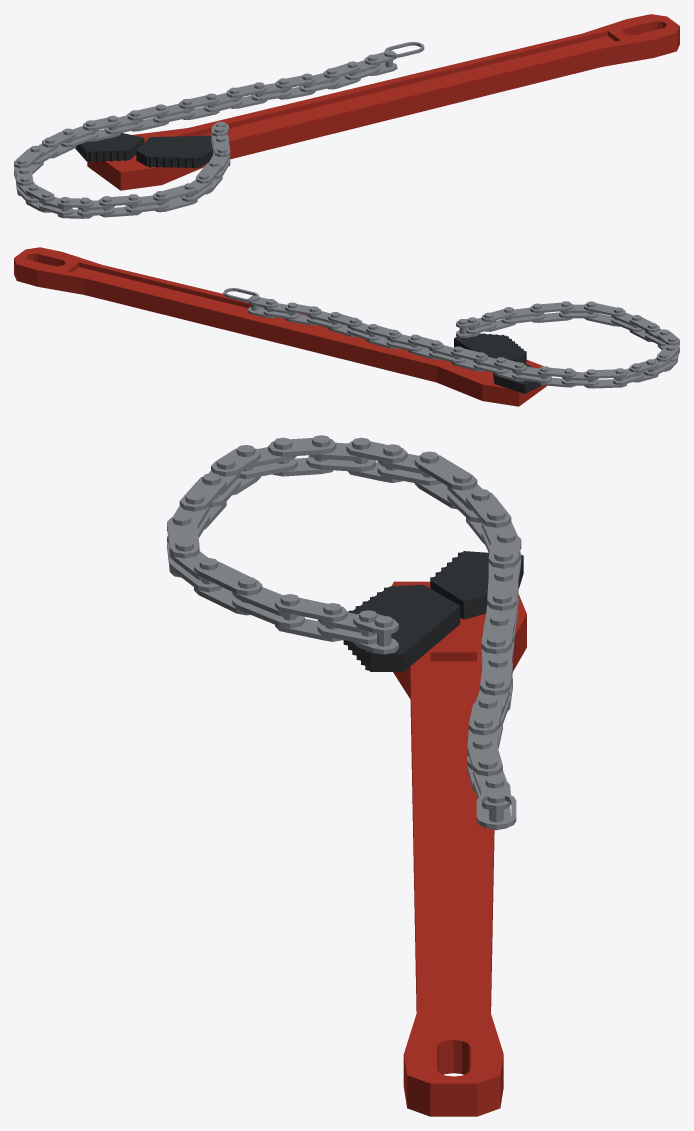
The picture shows the model from 3 angles, top to bottom: view 1: azimuth 30°, elevation 25°; view 2: azimuth 150°, elevation 25°; view 3: azimuth 270°, elevation 25°; orthographic projection. The views are drawn at different scales.
Visible parts, largest first — view 1: 01_Ribbed_cast_handle_with_real_end_slot, 04_Complete_pinned_plate_chain_loop_tail_and_pullring, 02_Replaceable_toothed_jaw_B, 02_Replaceable_toothed_jaw_A; view 2: 01_Ribbed_cast_handle_with_real_end_slot, 04_Complete_pinned_plate_chain_loop_tail_and_pullring, 02_Replaceable_toothed_jaw_B, 02_Replaceable_toothed_jaw_A; view 3: 01_Ribbed_cast_handle_with_real_end_slot, 04_Complete_pinned_plate_chain_loop_tail_and_pullring, 02_Replaceable_toothed_jaw_B, 02_Replaceable_toothed_jaw_A.
Boxes of the visible parts, x1,y1,x2,y2 form: 01_Ribbed_cast_handle_with_real_end_slot: (87,14,679,190); 04_Complete_pinned_plate_chain_loop_tail_and_pullring: (14,41,424,218); 02_Replaceable_toothed_jaw_B: (136,135,229,168); 02_Replaceable_toothed_jaw_A: (75,133,144,162); 01_Ribbed_cast_handle_with_real_end_slot: (14,247,547,406); 04_Complete_pinned_plate_chain_loop_tail_and_pullring: (223,288,679,388); 02_Replaceable_toothed_jaw_B: (454,333,526,362); 02_Replaceable_toothed_jaw_A: (492,361,541,393); 01_Ribbed_cast_handle_with_real_end_slot: (392,581,526,1116); 04_Complete_pinned_plate_chain_loop_tail_and_pullring: (167,435,521,830); 02_Replaceable_toothed_jaw_B: (343,584,460,671); 02_Replaceable_toothed_jaw_A: (430,551,523,619).
Size of the model in its own units: 0.428 by 0.027 by 0.1081.
